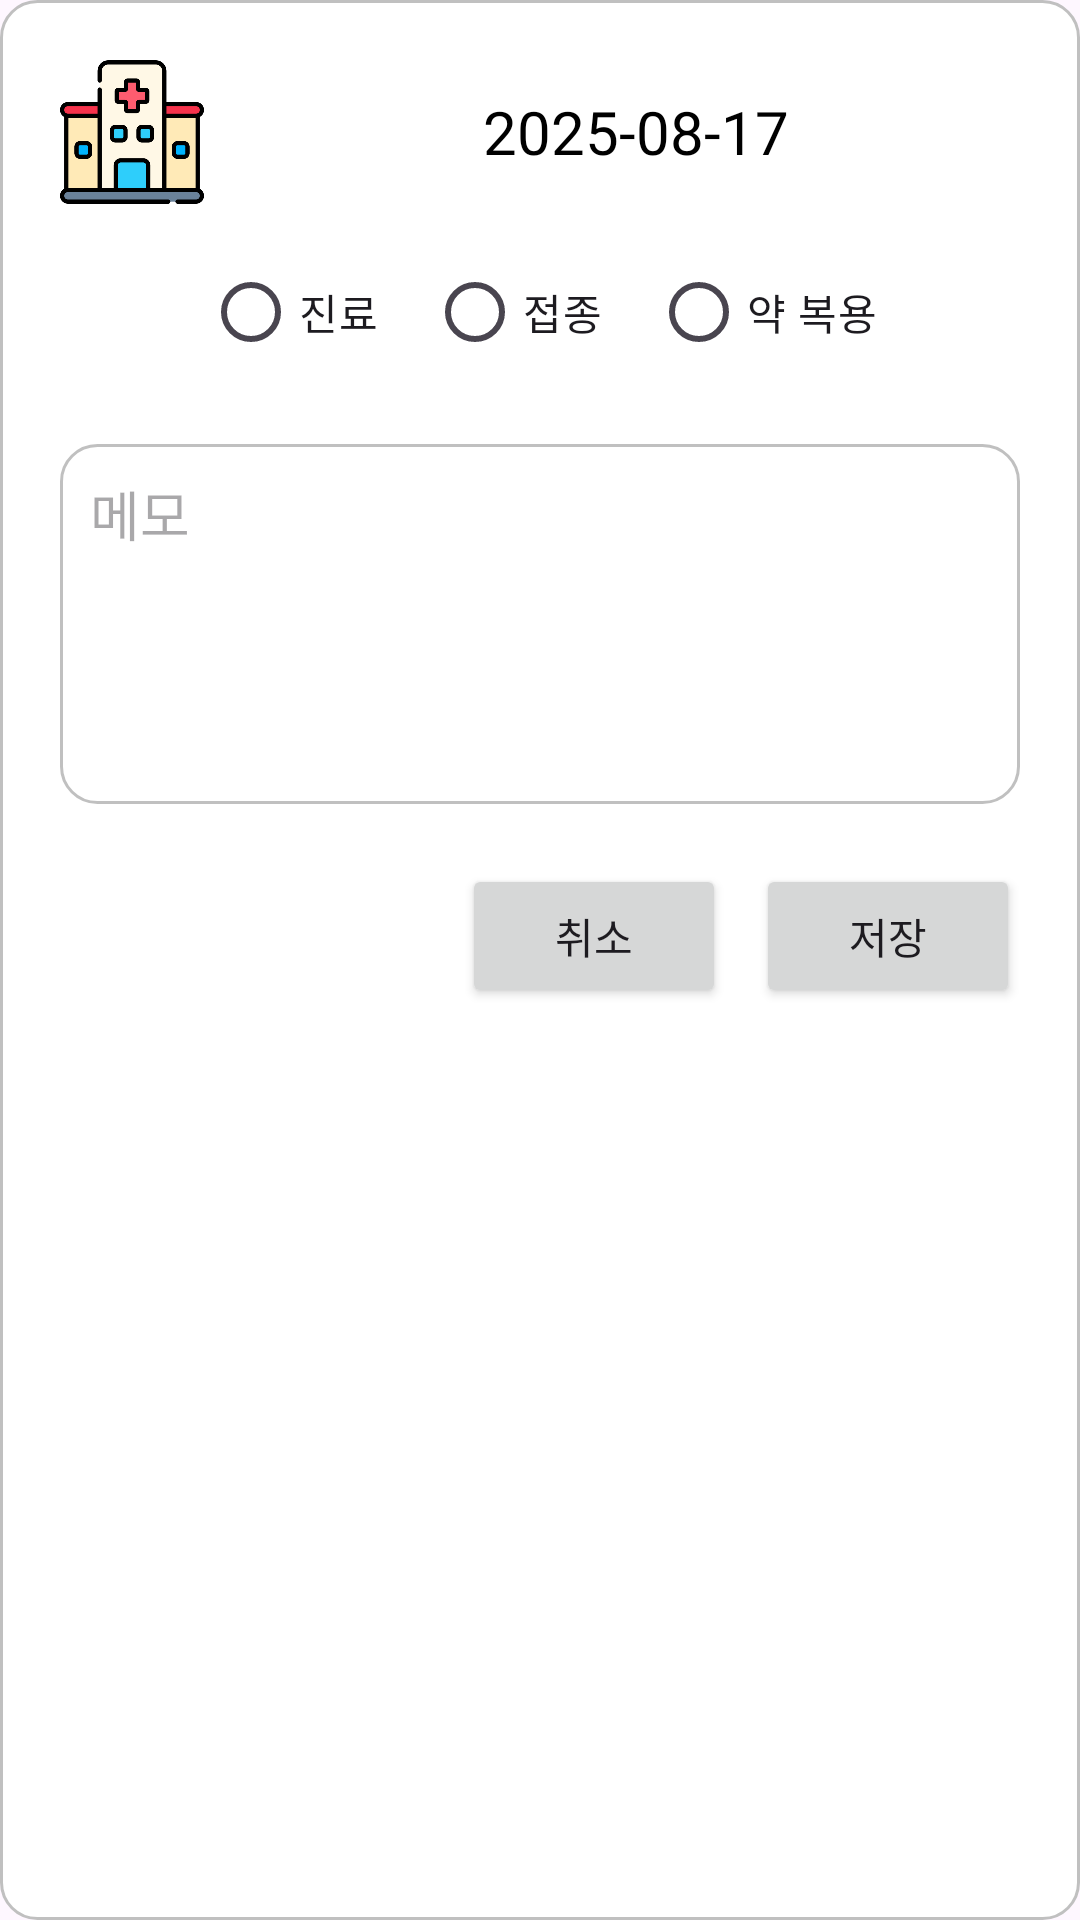

Point at icon controls on the screen. Image size 1080w x 1920h, points as (x=x, y=y).
hospital: (x=132, y=132)
